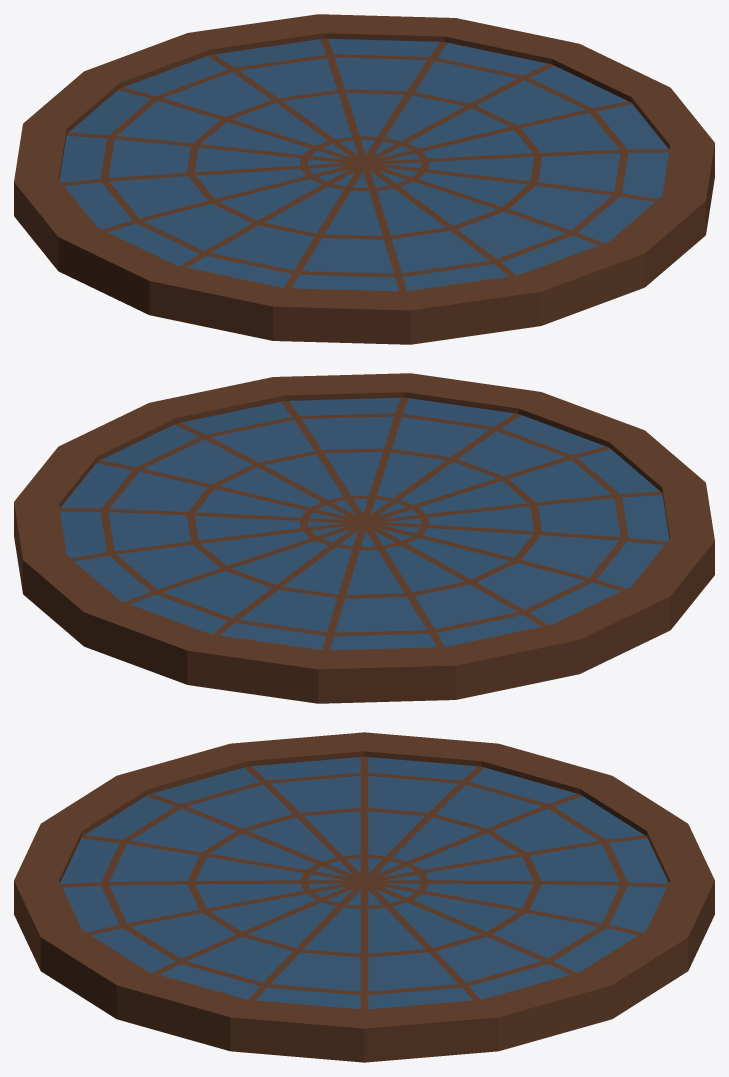
File: Lucernaio.fbx
The picture shows the model from 3 angles, top to bottom: view 1: azimuth 30°, elevation 25°; view 2: azimuth 150°, elevation 25°; view 3: azimuth 270°, elevation 25°; orthographic projection.
Visible parts, largest first — view 1: Lucernaio; view 2: Lucernaio; view 3: Lucernaio.
Boxes of the visible parts, box(x1,y1,x2,y2) form: Lucernaio: box(14, 14, 714, 344); Lucernaio: box(14, 373, 714, 703); Lucernaio: box(14, 732, 714, 1062).
Size of the model in its own units: 224 by 12 by 224.
